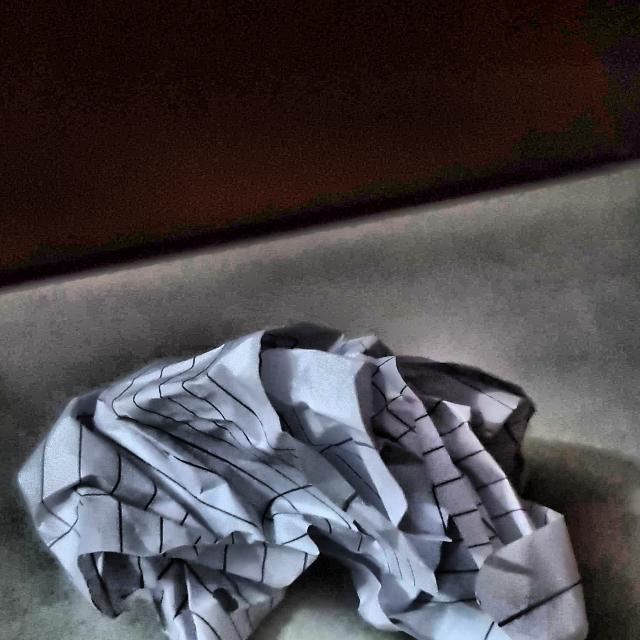paper: (21, 341, 570, 640)
